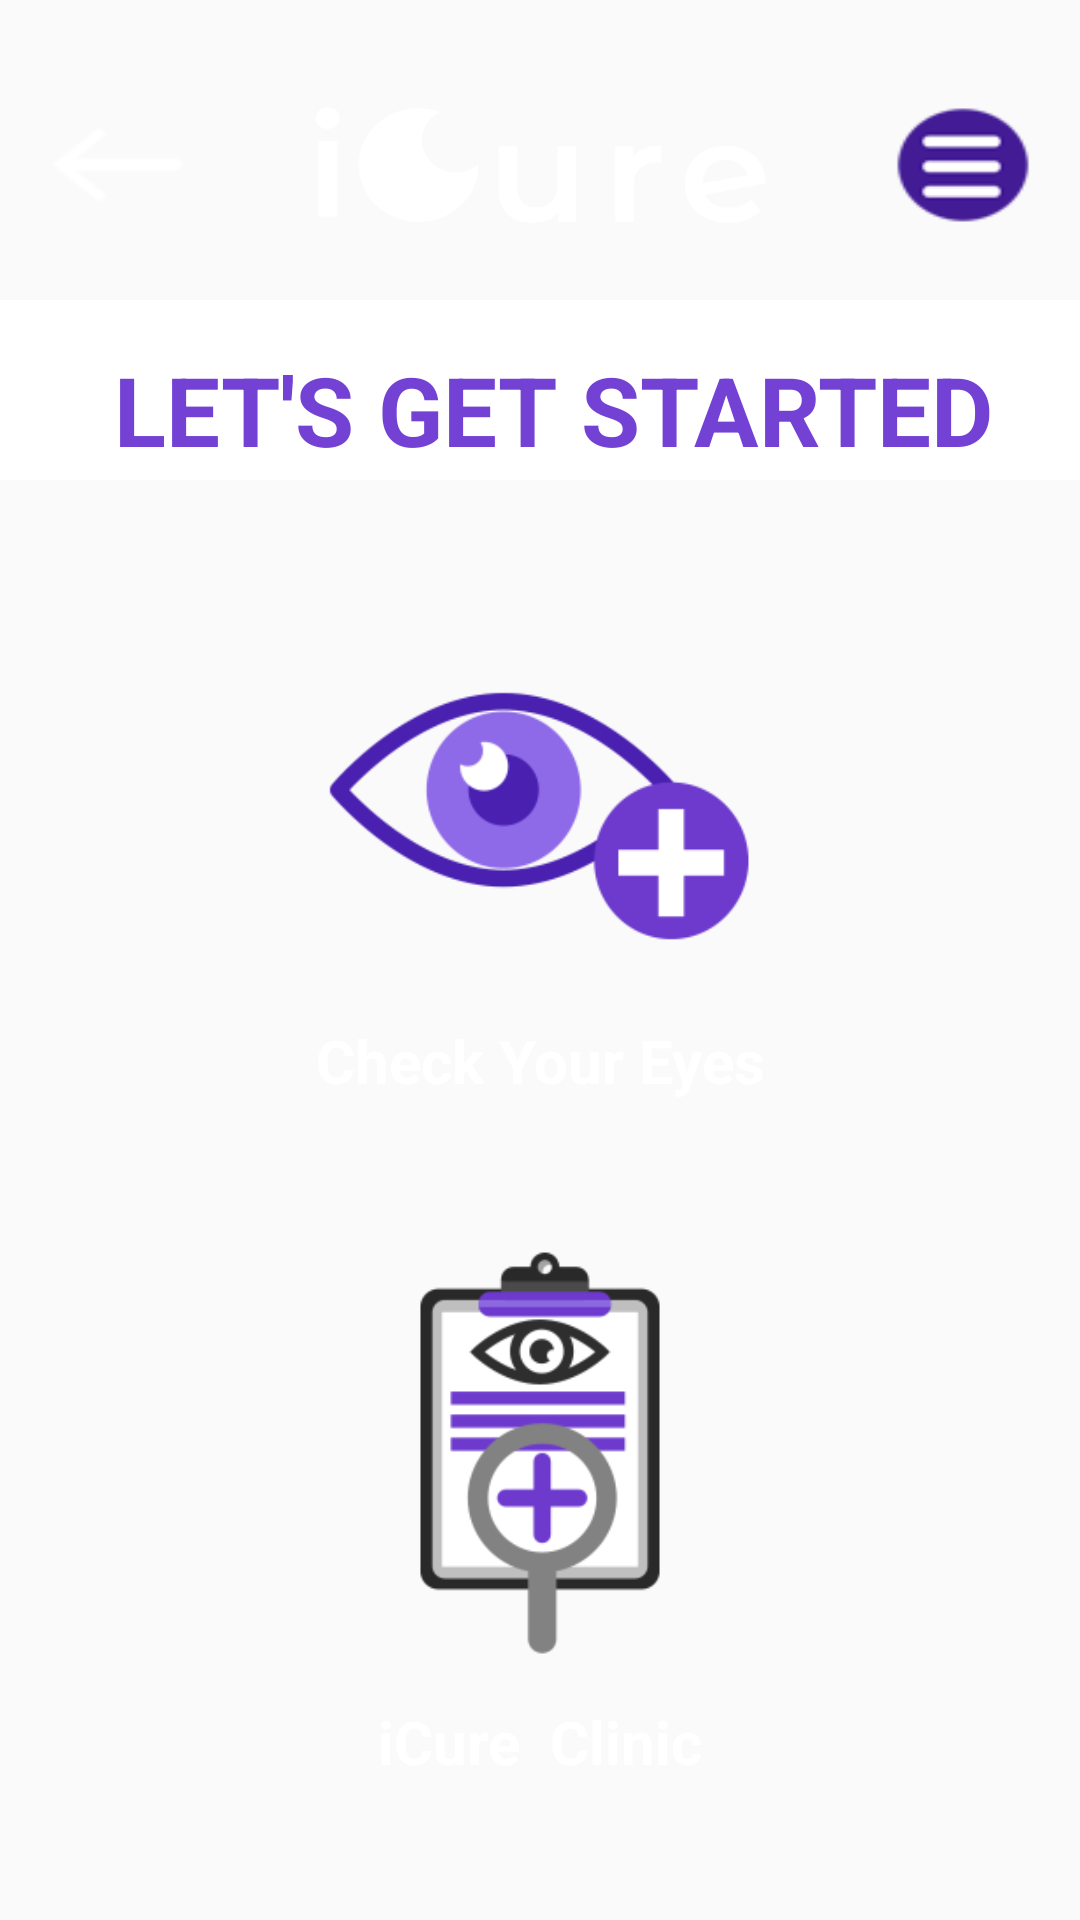

Named icons in this screenshot (1080x1920) and their bounding boxes, (x1, y1, x2, y2):
menu: (897, 108, 1029, 222)
